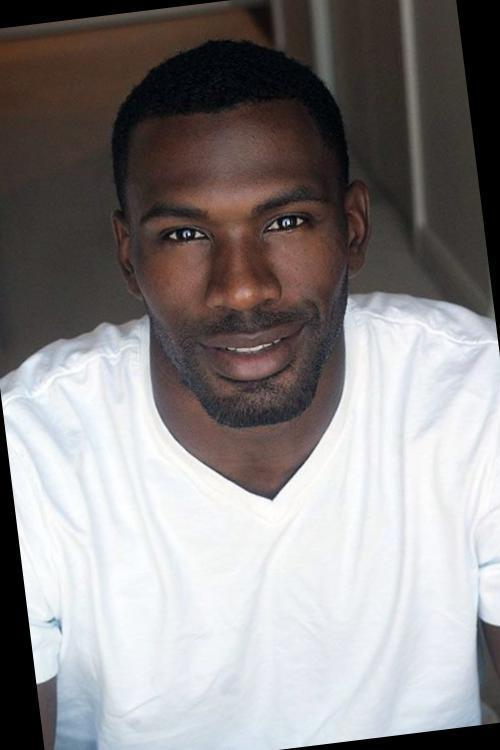Sober: (147, 115, 337, 389)
